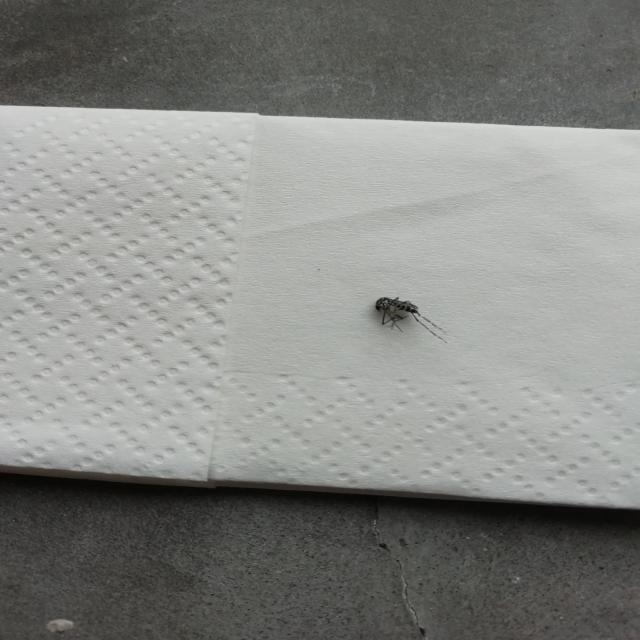albopictus: (370, 292, 452, 347)
